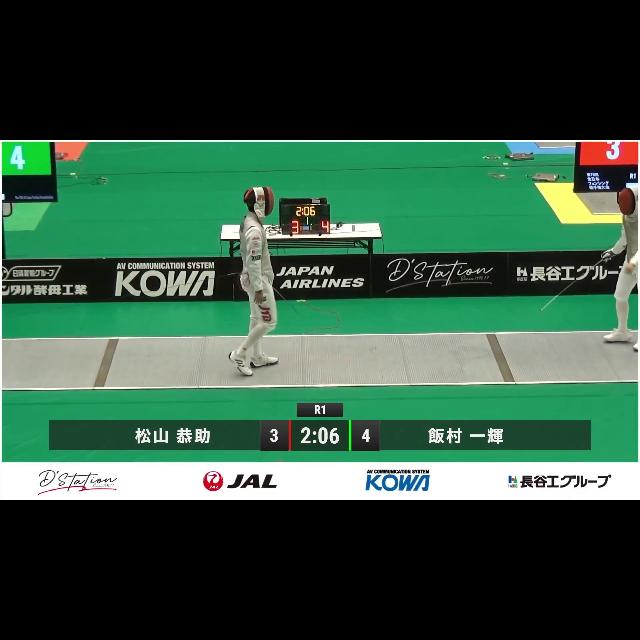blade: (538, 250, 616, 316)
